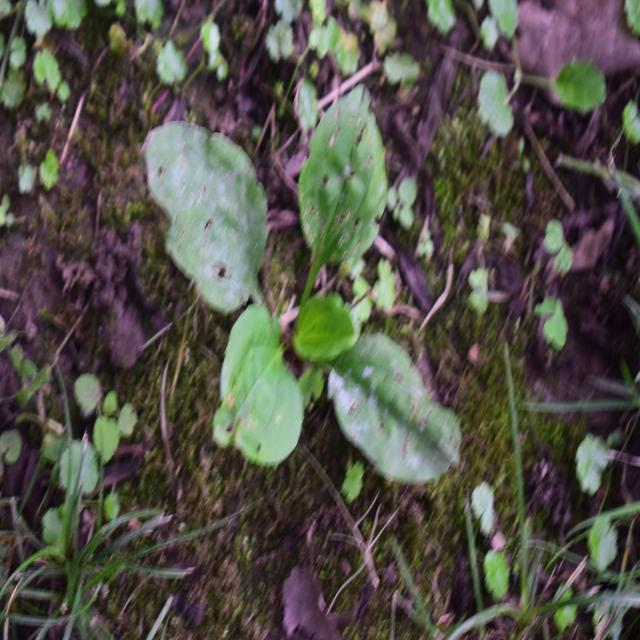plantain: (119, 92, 462, 490)
